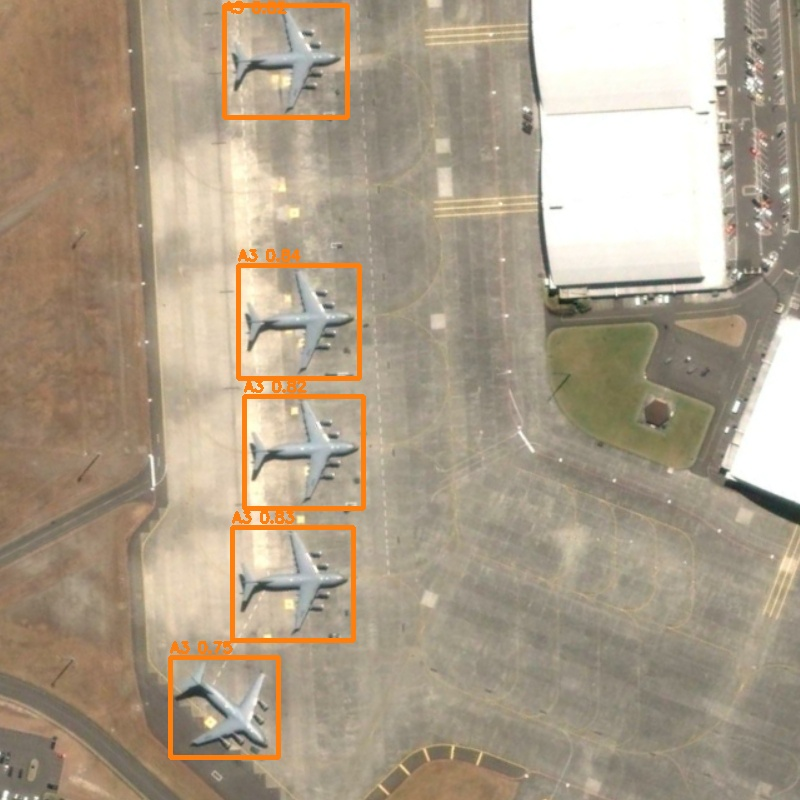A3: (224, 5, 347, 117), (238, 265, 359, 378), (232, 527, 353, 640), (244, 396, 363, 508), (170, 657, 278, 757)
